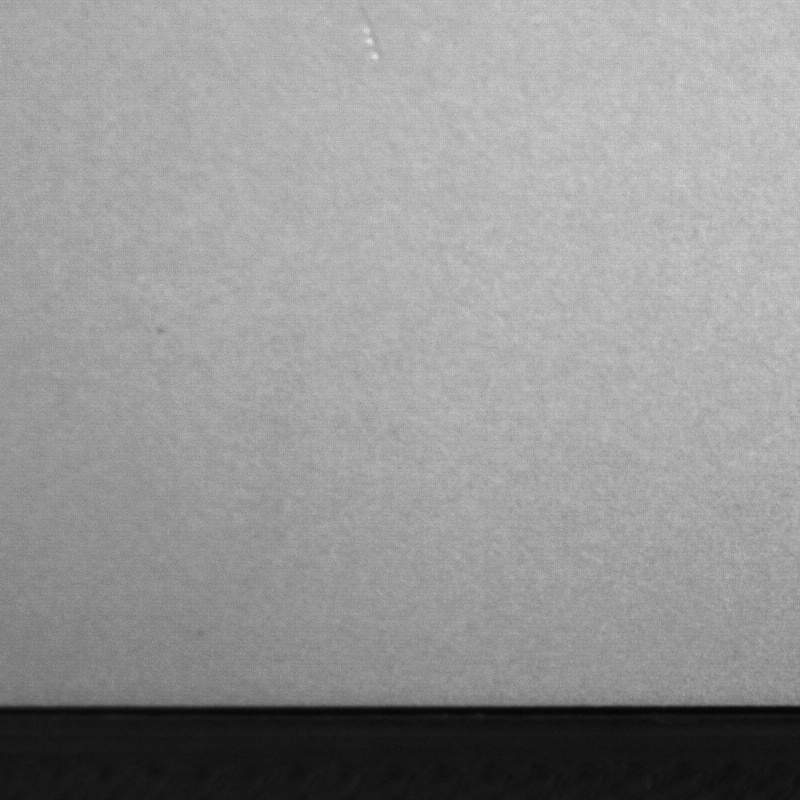defect: (359, 4, 383, 62), (193, 630, 211, 642), (154, 324, 165, 339)
